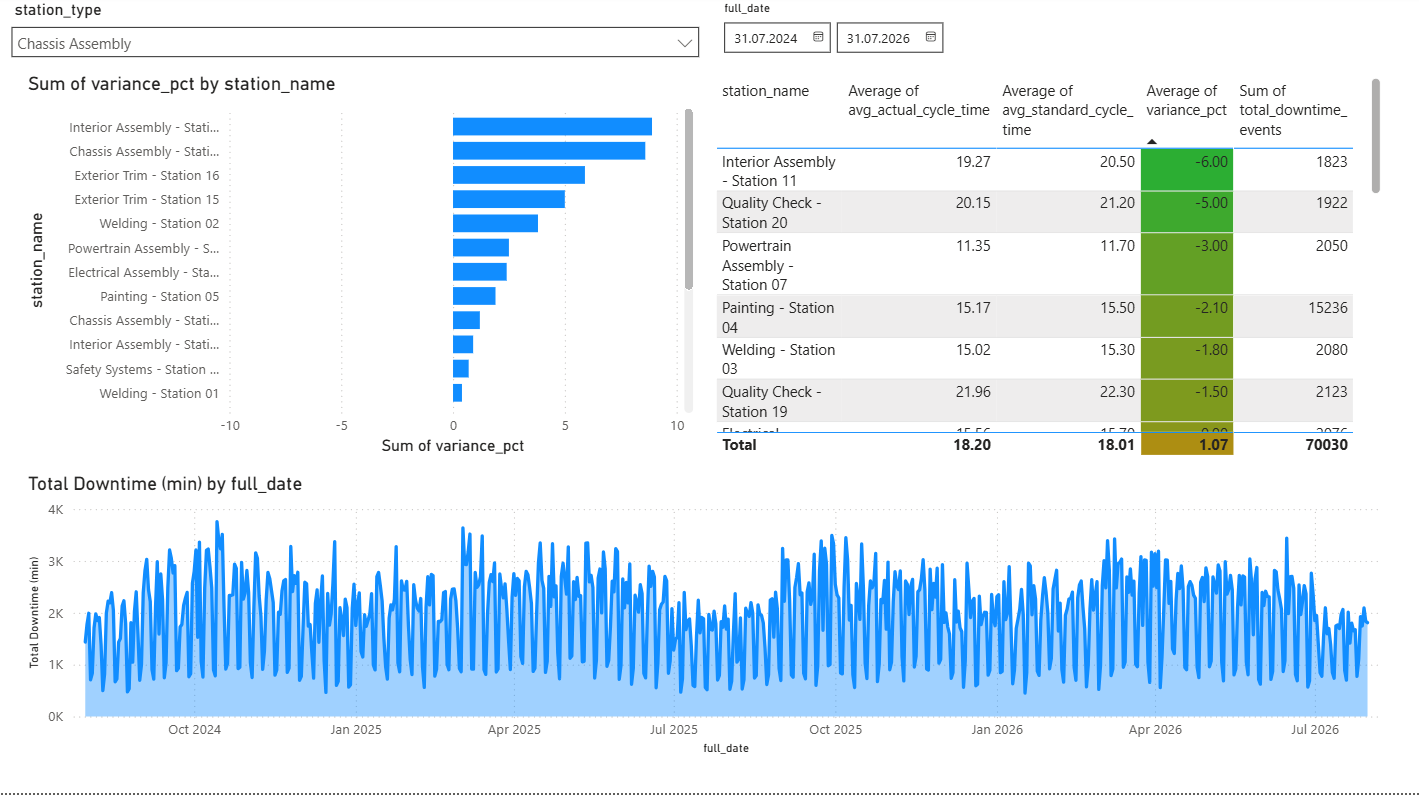

This screenshot's page, from the dashboard's own definition file:
{"tool":"powerbi","page":{"name":"Page 2","canvas":[1280,720],"ordinal":1},"visuals":[{"type":"slicer","fields":{"Values":["defect_pareto.station_type"]},"box":[0,0,640,60],"z":0},{"type":"slicer","fields":{"Values":["dim_date.full_date"]},"box":[640,0,640,60],"z":1000},{"type":"clusteredBarChart","fields":{"Category":["labor_time_station_summary.station_name"],"Y":["Sum(labor_time_station_summary.variance_pct)"]},"box":[20,70,610,350],"z":2000},{"type":"tableEx","fields":{"Values":["labor_time_station_summary.station_name","Avg(labor_time_station_summary.avg_actual_cycle_time)","Avg(labor_time_station_summary.avg_standard_cycle_time)","Avg(labor_time_station_summary.variance_pct)","Sum(labor_time_station_summary.total_downtime_events)"]},"box":[640,70,610,350],"z":3000},{"type":"stackedAreaChart","fields":{"Y":["_Measures.Total Downtime (min)"],"Category":["dim_date.full_date"]},"box":[20,430,1240,260],"z":4000}]}

Visuals, with their boxes in screenshot pixels (x1, y1, x2, y2), scaled from the page's 1280x720 canvas onto the 1419x795 screenshot:
slicer - defect_pareto.station_type: (0, 0, 710, 66)
slicer - dim_date.full_date: (710, 0, 1418, 66)
clusteredBarChart - labor_time_station_summary.station_name x Sum(labor_time_station_summary.variance_pct): (22, 77, 698, 464)
tableEx - labor_time_station_summary.station_name x Avg(labor_time_station_summary.avg_actual_cycle_time): (710, 77, 1386, 464)
stackedAreaChart - _Measures.Total Downtime (min) x dim_date.full_date: (22, 475, 1397, 762)
